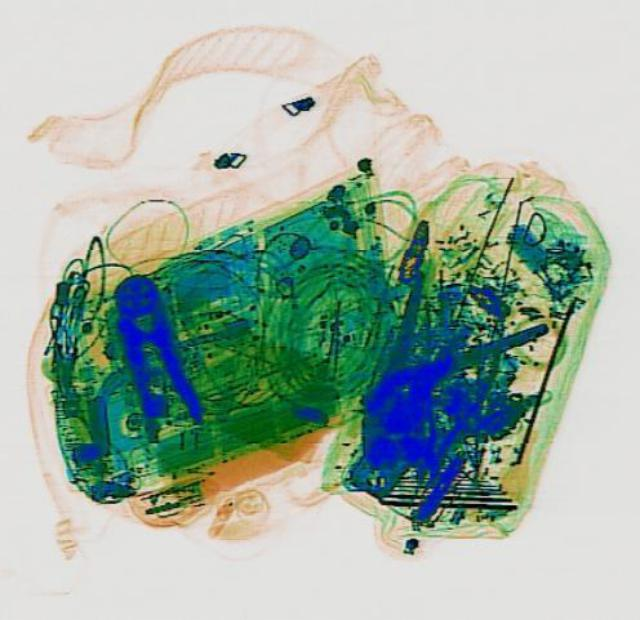Pliers: (98, 267, 202, 431)
